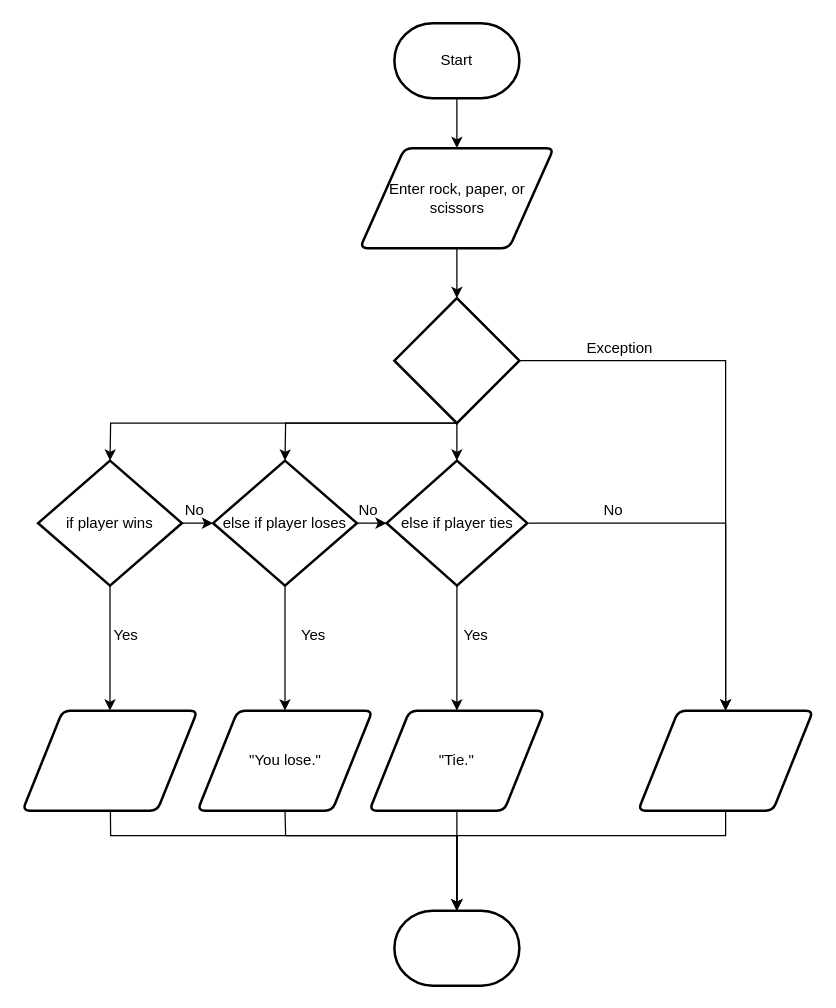
Image size: 836x1008. Some labels were removed from this diagram. Here are the shapes that lost their labels. From the top down, the centre of each, then its label:
[456,360]: try
[109,760]: "You win!"
[725,760]: "That is an invalid"
[456,947]: Stop
